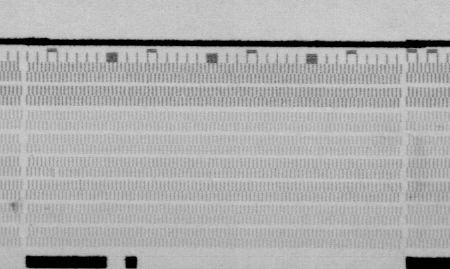Oblique printing: (50, 166, 61, 179)
